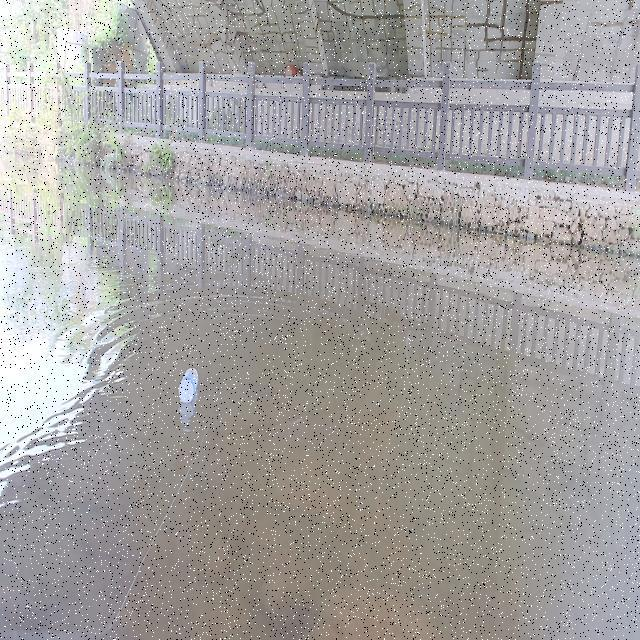Bottle: (169, 362, 204, 412)
